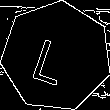L_N: (33, 27, 80, 86)
